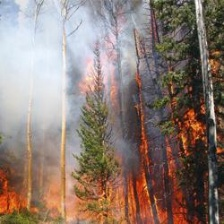fire: (1, 170, 199, 221), (175, 97, 210, 150)
smoke: (2, 6, 110, 139)
